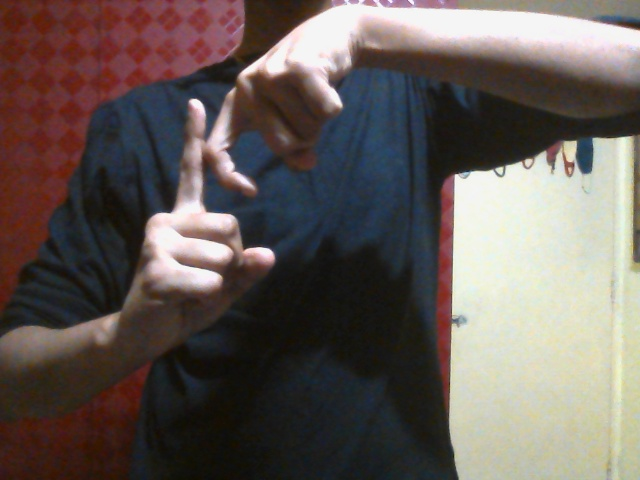K: (128, 59, 341, 350)
